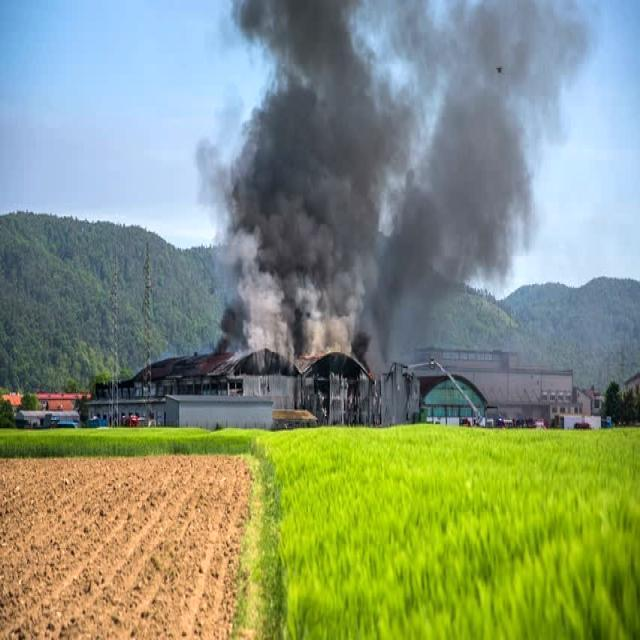Smoke: (198, 0, 552, 333)
